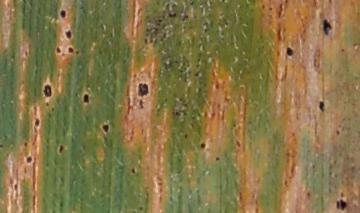tarspot: (136, 82, 149, 97), (322, 17, 332, 36), (336, 198, 347, 212), (43, 83, 53, 97), (63, 29, 75, 40), (100, 123, 111, 134), (285, 46, 295, 57), (59, 9, 68, 20), (318, 100, 325, 112), (34, 116, 41, 127), (25, 156, 34, 164), (82, 93, 89, 103), (58, 145, 65, 155), (181, 15, 189, 23), (167, 12, 176, 19), (199, 141, 206, 149), (67, 46, 74, 54), (174, 110, 182, 117), (138, 99, 144, 108), (305, 191, 312, 198), (55, 45, 61, 53), (12, 183, 18, 191), (156, 18, 162, 26), (23, 140, 29, 148), (131, 166, 136, 175), (340, 47, 346, 54), (138, 205, 144, 212), (74, 49, 80, 56), (50, 106, 56, 113), (335, 128, 340, 136), (267, 6, 273, 12), (45, 100, 50, 107), (143, 36, 147, 44), (215, 156, 221, 161), (188, 1, 194, 6), (327, 1, 333, 4), (1, 143, 4, 149), (284, 1, 288, 4), (220, 1, 225, 3)
